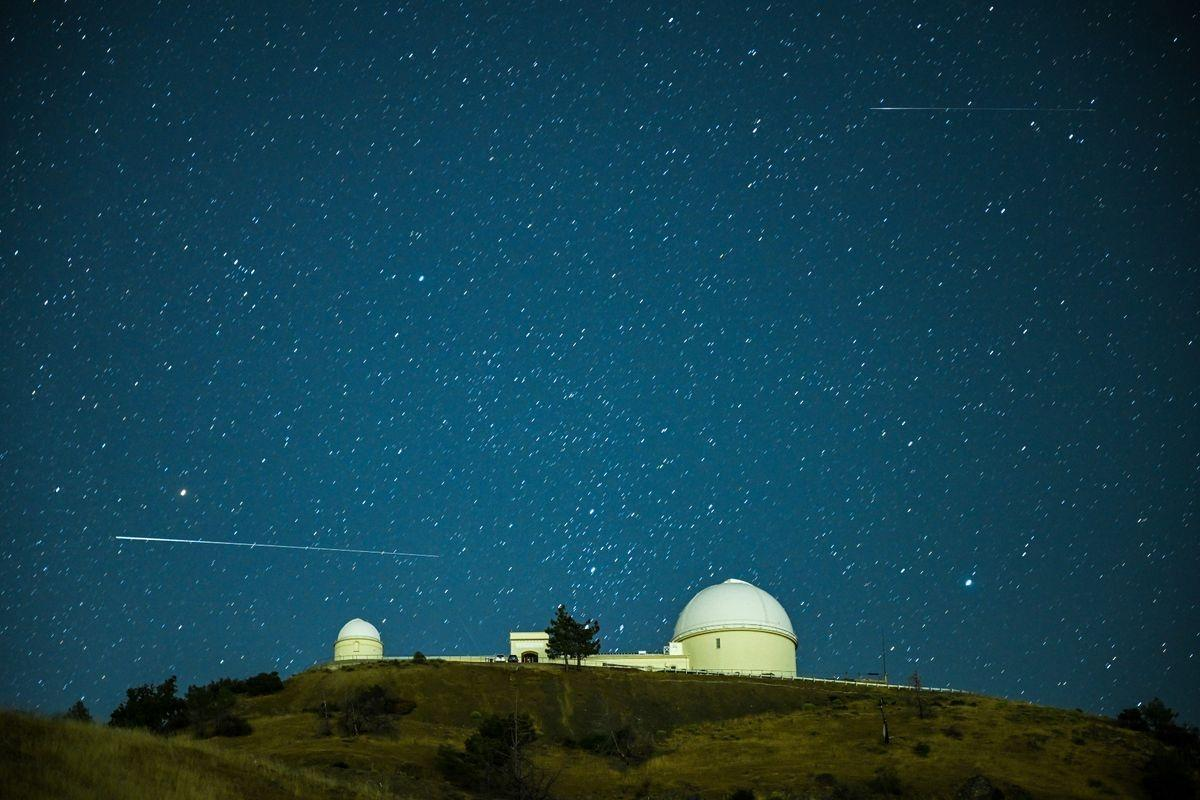meteorite: (80, 525, 466, 564), (847, 94, 1111, 135)
